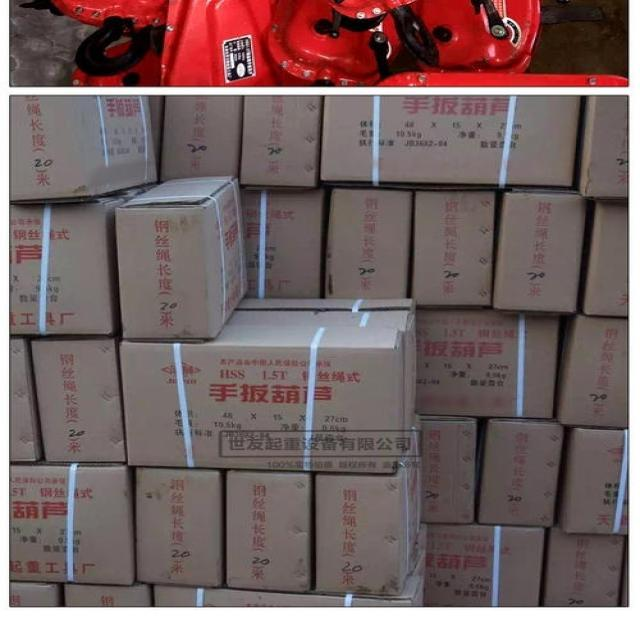box: (119, 324, 406, 474), (225, 310, 415, 452), (320, 95, 582, 187), (115, 177, 250, 344), (151, 526, 425, 608), (9, 185, 156, 335), (237, 298, 417, 415), (316, 416, 424, 595), (10, 95, 160, 204), (9, 461, 137, 587), (420, 306, 558, 419), (492, 187, 588, 315), (31, 336, 127, 462), (223, 469, 314, 592), (134, 467, 224, 587), (426, 524, 547, 608), (324, 188, 415, 298), (411, 190, 494, 309), (476, 417, 564, 526), (241, 187, 323, 298), (556, 315, 628, 429), (556, 427, 628, 537), (239, 95, 323, 187), (161, 95, 243, 183), (543, 525, 625, 608), (421, 414, 476, 524), (572, 96, 628, 200), (581, 201, 630, 317), (9, 337, 44, 462), (64, 577, 152, 606), (9, 582, 61, 607), (147, 95, 164, 154)
